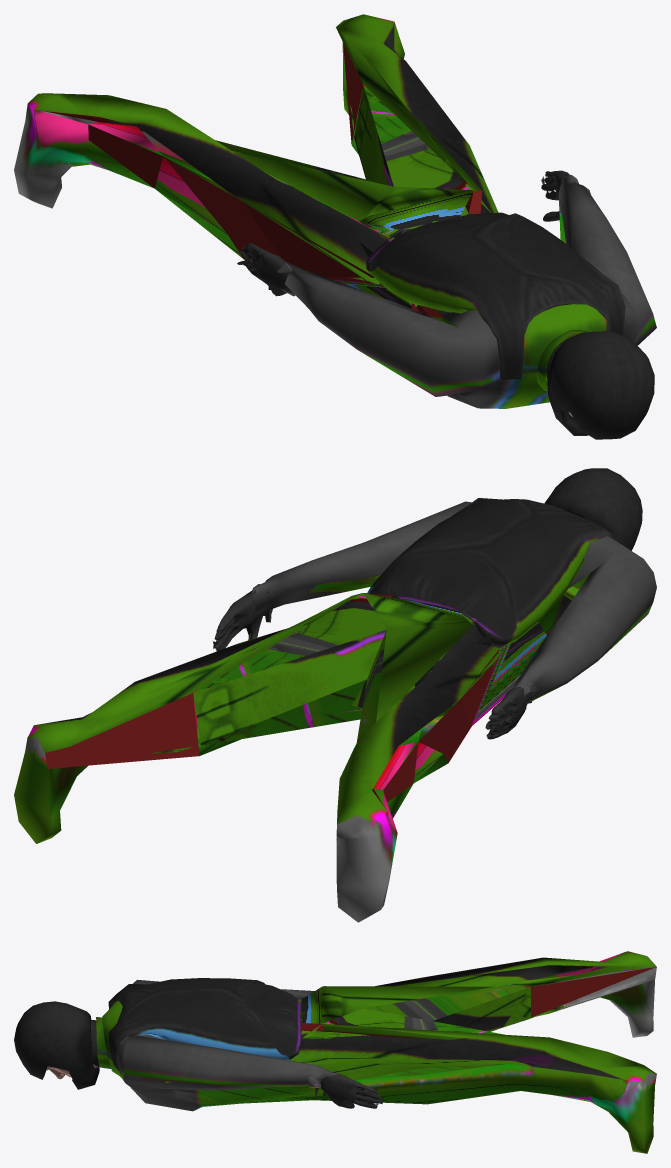
Rendered from tslick.glb.
3 renders of one model, top to bottom at view 1: azimuth 30°, elevation 25°; view 2: azimuth 150°, elevation 25°; view 3: azimuth 270°, elevation 25°, orthographic. The views are drawn at different scales.
Parts seen in each view (by area): view 1: WS_V3; view 2: WS_V3; view 3: WS_V3.
Part boxes in pixels (x1,y1,x2,y2): WS_V3: (14, 14, 656, 439); WS_V3: (14, 468, 656, 922); WS_V3: (14, 951, 656, 1153).
Bounding box in the file's own units: 1.7 × 0.6066 × 3.38.
Materials: 1 (1 with a texture image).
